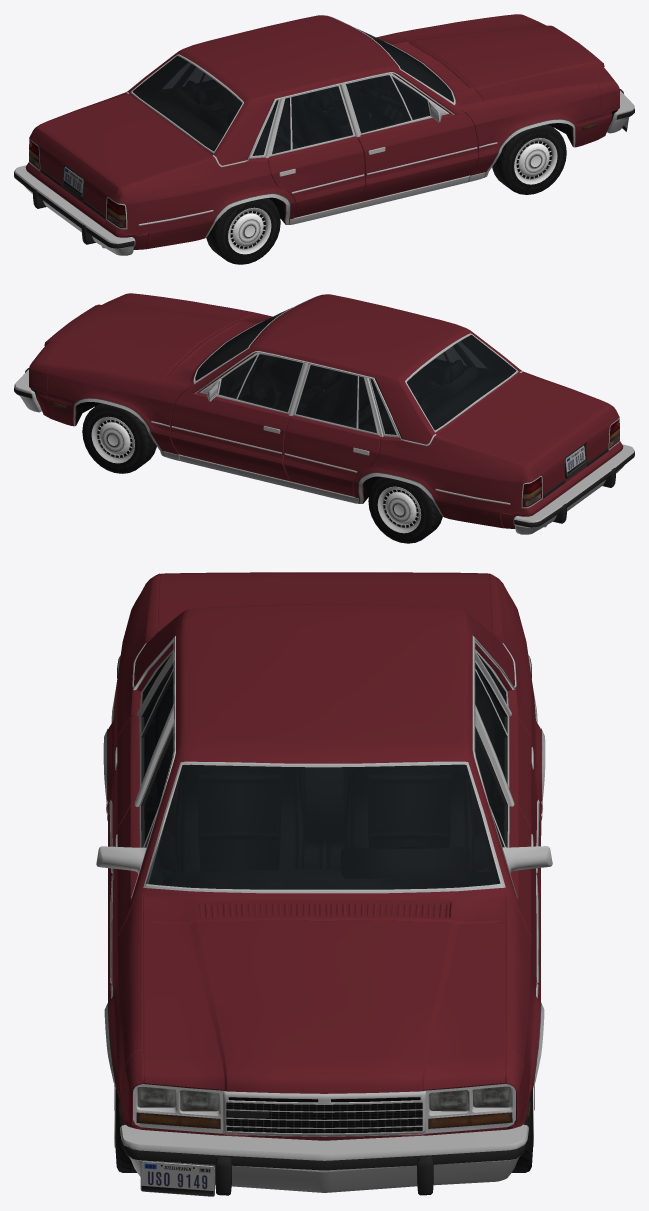
The picture shows the model from 3 angles, top to bottom: view 1: azimuth 30°, elevation 25°; view 2: azimuth 150°, elevation 25°; view 3: azimuth 270°, elevation 25°; orthographic projection. The views are drawn at different scales.
Parts seen in each view (by area): view 1: Fairheaven_LT80_body_Fairheaven_LT80_Bodymat_0, Fairheaven_LT80_trunk_door_Fairheaven_LT80_Bodymat_0, Fairheaven_LT80_Hood_Fairheaven_LT80_Bodymat_0, Fairheaven_LT80_Grand_Trim_UCB_BOTTOM_GT_0, Fairheaven_LT80_Interior_Trim_UCB_Interior_Trim_0, Fairheaven_LT80_Interior_UCB_Interior_Trim_0, Fairheaven_LT80_Glass_Rear_UCB_Lights_and_Glass_Transperent_, Fairheaven_LT80_Glass_Body_UCB_Lights_and_Glass_Transperent_, Fairheaven_LT80_WheelHubcaps_FR_RB1c_Tire_1k_0, Fairheaven_LT80_WheelHubcaps_RL_RB1c_Tire_1k_0, Fairheaven_LT80_Glass_Passanger001_UCB_Lights_and_Glass_Tran, Fairheaven_LT80_bumper_rear_UCB_BOTTOM_GT_0 (+8 smaller); view 2: Fairheaven_LT80_body_Fairheaven_LT80_Bodymat_0, Fairheaven_LT80_trunk_door_Fairheaven_LT80_Bodymat_0, Fairheaven_LT80_Hood_Fairheaven_LT80_Bodymat_0, Fairheaven_LT80_Grand_Trim_UCB_BOTTOM_GT_0, Fairheaven_LT80_Interior_Trim_UCB_Interior_Trim_0, Fairheaven_LT80_Interior_UCB_Interior_Trim_0, Fairheaven_LT80_Glass_Rear_UCB_Lights_and_Glass_Transperent_, Fairheaven_LT80_Glass_Body_UCB_Lights_and_Glass_Transperent_, Fairheaven_LT80_WheelHubcaps_FL_RB1c_Tire_1k_0, Fairheaven_LT80_WheelHubcaps_RR_RB1c_Tire_1k_0, Fairheaven_LT80_Glass_Driver001_UCB_Lights_and_Glass_Transpe, Fairheaven_LT80_bumper_rear_UCB_BOTTOM_GT_0 (+9 smaller); view 3: Fairheaven_LT80_body_Fairheaven_LT80_Bodymat_0, Fairheaven_LT80_Hood_Fairheaven_LT80_Bodymat_0, Fairheaven_LT80_Interior_Trim_UCB_Interior_Trim_0, Fairheaven_LT80_Windshield_UCB_Lights_and_Glass_Transperent_, Fairheaven_LT80_Bumper_Front_UCB_BOTTOM_GT_0, Fairheaven_LT80_Grand_Trim_UCB_BOTTOM_GT_0, Fairheaven_LT80_Front_Plate_Inner_UCB_BOTTOM_GT_0, Fairheaven_LT80_trunk_door_Fairheaven_LT80_Bodymat_0, Fairheaven_LT80_Headlights_Glass_UCB_Lights_and_Glass_Transp, Fairheaven_LT80_Front_Plate_Fairheaven_LT80_Bodymat_0, Fairheaven_LT80_Headlights_UCB_Lights_and_Glass_0, Fairheaven_LT80_Glass_Body_UCB_Lights_and_Glass_Transperent_ (+4 smaller).
Part boxes in pixels (<box>): Fairheaven_LT80_body_Fairheaven_LT80_Bodymat_0: <box>25,15,601,249</box>; Fairheaven_LT80_trunk_door_Fairheaven_LT80_Bodymat_0: <box>32,94,211,219</box>; Fairheaven_LT80_Hood_Fairheaven_LT80_Bodymat_0: <box>394,14,615,100</box>; Fairheaven_LT80_Grand_Trim_UCB_BOTTOM_GT_0: <box>29,16,575,238</box>; Fairheaven_LT80_Interior_Trim_UCB_Interior_Trim_0: <box>170,44,453,155</box>; Fairheaven_LT80_Interior_UCB_Interior_Trim_0: <box>133,39,451,150</box>; Fairheaven_LT80_Glass_Rear_UCB_Lights_and_Glass_Transperent_: <box>132,56,242,151</box>; Fairheaven_LT80_Glass_Body_UCB_Lights_and_Glass_Transperent_: <box>163,63,352,155</box>; Fairheaven_LT80_WheelHubcaps_FR_RB1c_Tire_1k_0: <box>492,124,566,194</box>; Fairheaven_LT80_WheelHubcaps_RL_RB1c_Tire_1k_0: <box>206,198,280,264</box>; Fairheaven_LT80_Glass_Passanger001_UCB_Lights_and_Glass_Tran: <box>346,75,429,132</box>; Fairheaven_LT80_bumper_rear_UCB_BOTTOM_GT_0: <box>14,165,135,255</box>; Fairheaven_LT80_body_Fairheaven_LT80_Bodymat_0: <box>47,294,623,528</box>; Fairheaven_LT80_trunk_door_Fairheaven_LT80_Bodymat_0: <box>437,373,616,498</box>; Fairheaven_LT80_Hood_Fairheaven_LT80_Bodymat_0: <box>33,294,255,379</box>; Fairheaven_LT80_Grand_Trim_UCB_BOTTOM_GT_0: <box>73,295,619,517</box>; Fairheaven_LT80_Interior_Trim_UCB_Interior_Trim_0: <box>195,326,478,434</box>; Fairheaven_LT80_Interior_UCB_Interior_Trim_0: <box>197,319,515,429</box>; Fairheaven_LT80_Glass_Rear_UCB_Lights_and_Glass_Transperent_: <box>407,335,516,430</box>; Fairheaven_LT80_Glass_Body_UCB_Lights_and_Glass_Transperent_: <box>296,342,485,434</box>; Fairheaven_LT80_WheelHubcaps_FL_RB1c_Tire_1k_0: <box>82,403,156,473</box>; Fairheaven_LT80_WheelHubcaps_RR_RB1c_Tire_1k_0: <box>368,477,442,543</box>; Fairheaven_LT80_Glass_Driver001_UCB_Lights_and_Glass_Transpe: <box>219,354,302,411</box>; Fairheaven_LT80_bumper_rear_UCB_BOTTOM_GT_0: <box>513,444,634,534</box>; Fairheaven_LT80_body_Fairheaven_LT80_Bodymat_0: <box>107,573,541,1116</box>; Fairheaven_LT80_Hood_Fairheaven_LT80_Bodymat_0: <box>143,920,505,1093</box>; Fairheaven_LT80_Interior_Trim_UCB_Interior_Trim_0: <box>147,687,501,889</box>; Fairheaven_LT80_Windshield_UCB_Lights_and_Glass_Transperent_: <box>146,764,500,889</box>; Fairheaven_LT80_Bumper_Front_UCB_BOTTOM_GT_0: <box>120,1124,528,1195</box>; Fairheaven_LT80_Grand_Trim_UCB_BOTTOM_GT_0: <box>96,635,552,1088</box>; Fairheaven_LT80_Front_Plate_Inner_UCB_BOTTOM_GT_0: <box>133,1063,515,1136</box>; Fairheaven_LT80_trunk_door_Fairheaven_LT80_Bodymat_0: <box>157,572,491,632</box>; Fairheaven_LT80_Headlights_Glass_UCB_Lights_and_Glass_Transp: <box>136,1086,512,1128</box>; Fairheaven_LT80_Front_Plate_Fairheaven_LT80_Bodymat_0: <box>122,1050,526,1140</box>; Fairheaven_LT80_Headlights_UCB_Lights_and_Glass_0: <box>138,1087,510,1110</box>; Fairheaven_LT80_Glass_Body_UCB_Lights_and_Glass_Transperent_: <box>142,653,506,776</box>.
Size of the model in its own units: 5 by 1.35 by 1.83.
Materials: 7 (6 with a texture image).
